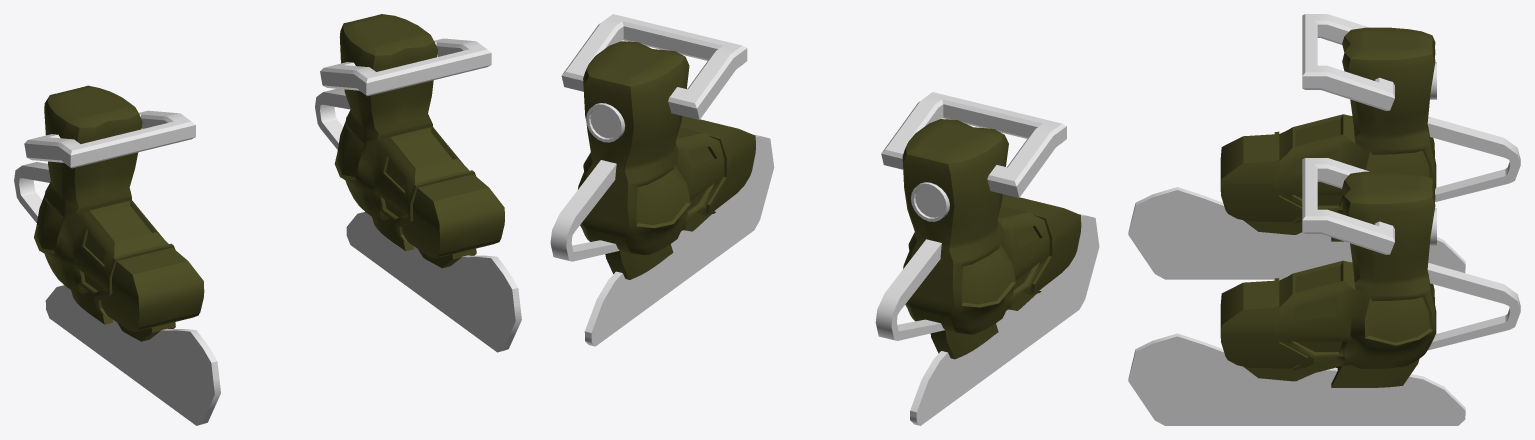
The model's file is shoes.fbx.
3 views of the same model, side by side, from view 1: azimuth 30°, elevation 25°; view 2: azimuth 150°, elevation 25°; view 3: azimuth 270°, elevation 25° (orthographic). The views are drawn at different scales.
Visible parts, largest first — view 1: pCube6, pCube7, pCube8; view 2: pCube6, pCube7, pCube8, pCylinder1; view 3: pCube6, pCube7, pCube8, pCylinder1.
Boxes of the visible parts, <box> form: pCube6: <box>14,14,504,341</box>; pCube7: <box>45,212,521,425</box>; pCube8: <box>24,38,491,168</box>; pCube6: <box>550,41,1081,359</box>; pCube7: <box>584,134,1099,425</box>; pCube8: <box>561,14,1066,197</box>; pCylinder1: <box>586,103,949,221</box>; pCube6: <box>1220,27,1520,387</box>; pCube7: <box>1128,187,1465,425</box>; pCube8: <box>1302,14,1394,254</box>; pCylinder1: <box>1429,62,1436,245</box>.
Size of the model in its own units: 61.17 by 33.24 by 49.49.
